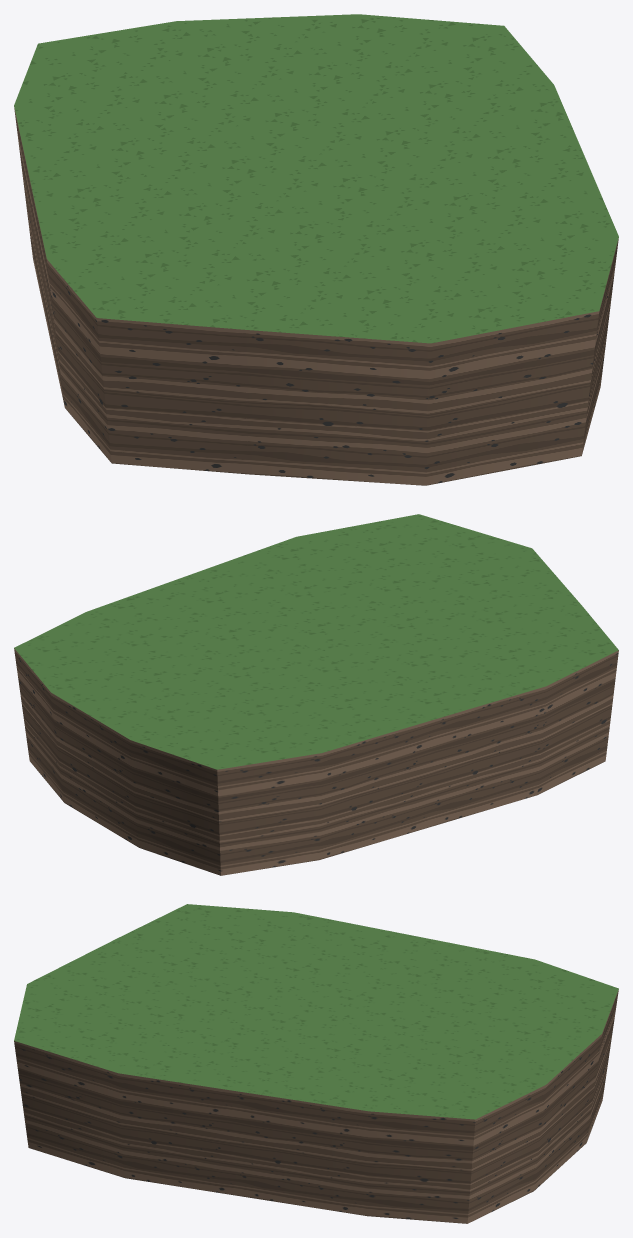
Rendered from RaisedTerrain.obj.
3 views of the same model, one above another, from view 1: azimuth 30°, elevation 25°; view 2: azimuth 150°, elevation 25°; view 3: azimuth 270°, elevation 25° (orthographic). The views are drawn at different scales.
Parts seen in each view (by area): view 1: pCube4396_Erba_01_TileMat_0, pCube4396_Bordo_Zolla_01_Mat_0; view 2: pCube4396_Erba_01_TileMat_0, pCube4396_Bordo_Zolla_01_Mat_0; view 3: pCube4396_Erba_01_TileMat_0, pCube4396_Bordo_Zolla_01_Mat_0.
Part boxes in pixels (x1,y1,x2,y2): pCube4396_Erba_01_TileMat_0: [14, 14, 618, 343]; pCube4396_Bordo_Zolla_01_Mat_0: [14, 106, 618, 485]; pCube4396_Erba_01_TileMat_0: [14, 514, 618, 769]; pCube4396_Bordo_Zolla_01_Mat_0: [14, 648, 618, 875]; pCube4396_Erba_01_TileMat_0: [14, 904, 618, 1119]; pCube4396_Bordo_Zolla_01_Mat_0: [14, 989, 618, 1223].
Size of the model in its own units: 0.8331 by 0.198 by 0.9883.
Materials: 2 (2 with a texture image).
